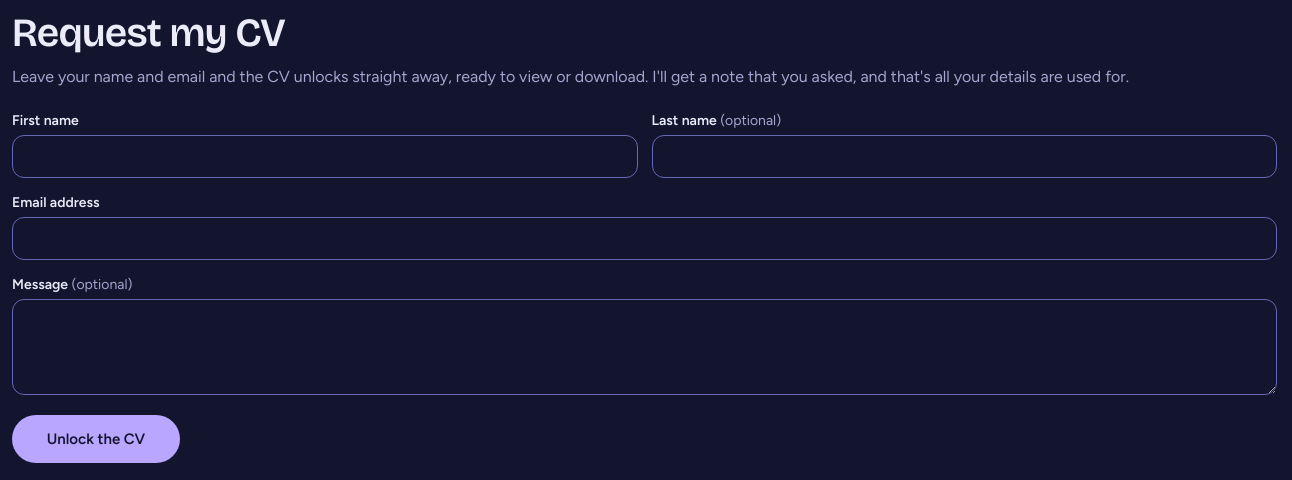
Test: CVRequestForm › still unlocks the CV when the API responds with an error
This screenshot has width=1292, height=480.
Type "Ada" into the field labelled "First name". click: [325, 156]
box: [12,135,638,178]
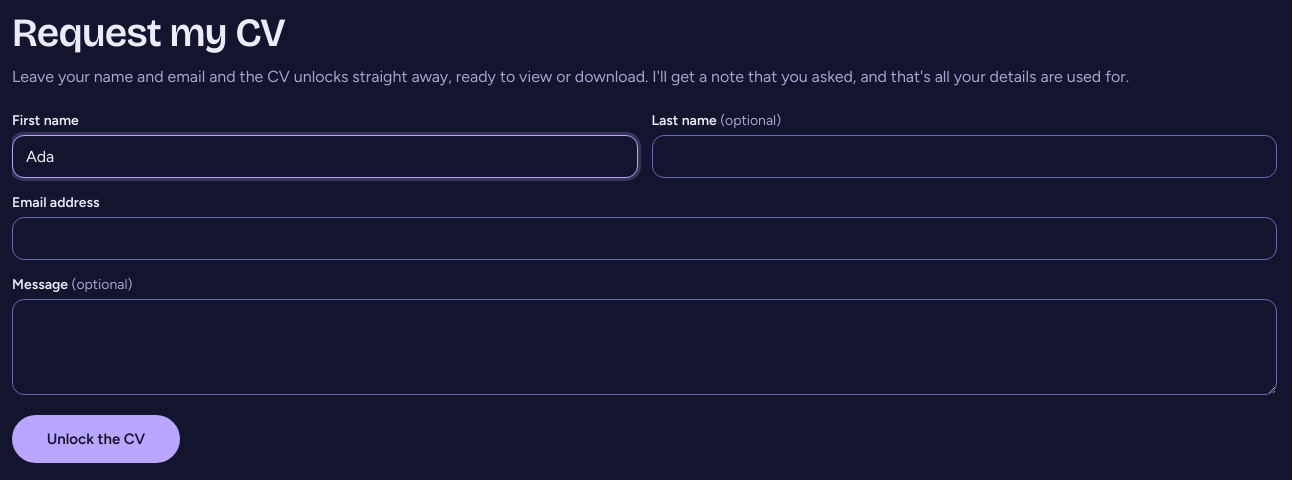
Type "Lovelace" into the field labelled "Last name (optional)". click: [964, 156]
box: [652,135,1277,178]
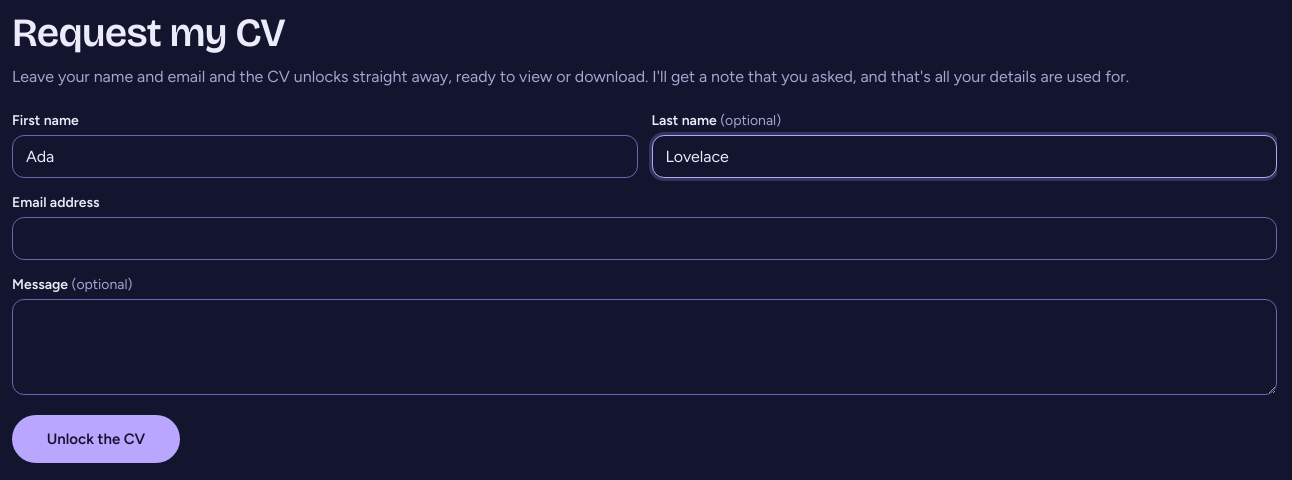
Type "ada@example.com" into the field labelled "Email address". click: [644, 238]
box: [12,217,1277,260]
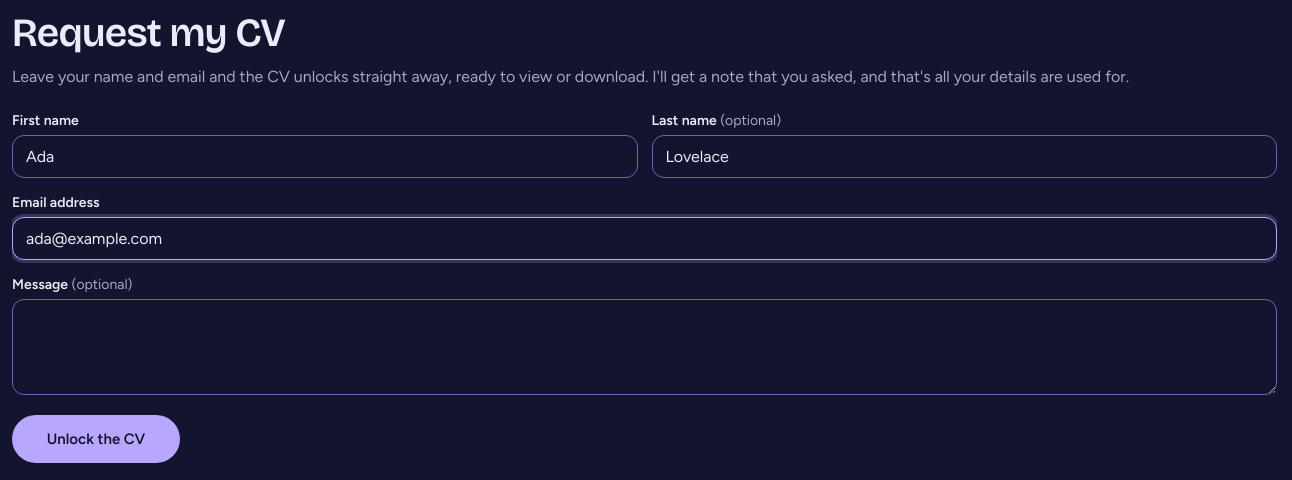
Type "Hello" into the text box labelled "Message (optional)". click: [644, 347]
box: [12,299,1277,395]
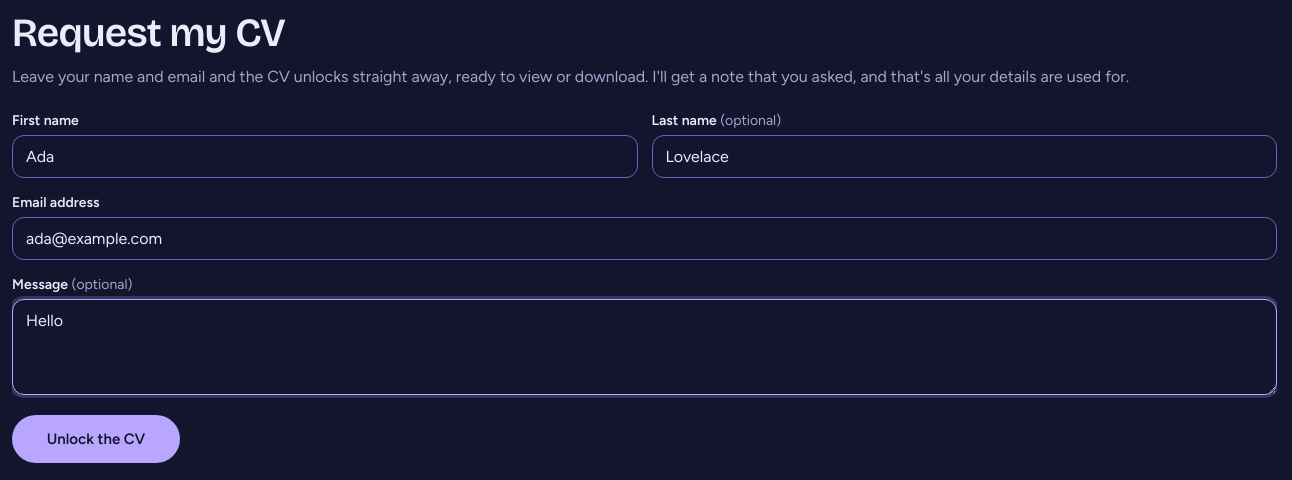
Click the button "Unlock the CV". click: [96, 439]
box: [12,415,180,463]
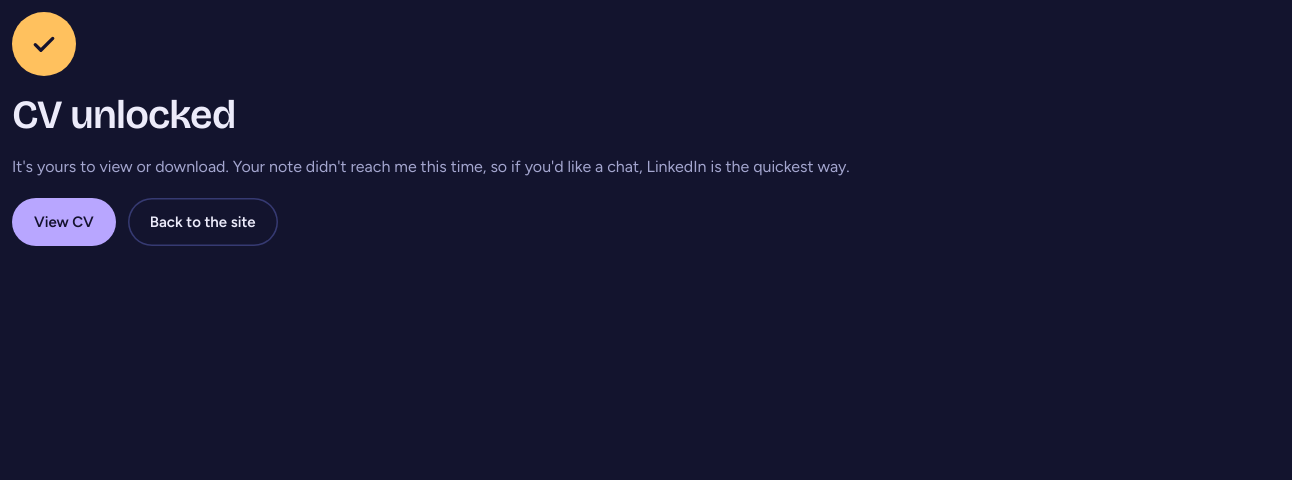
Expected: the heading "CV unlocked" is shown, [12,91,235,139]
Expected: the text "didn't reach me" is shown, [12,157,850,176]
